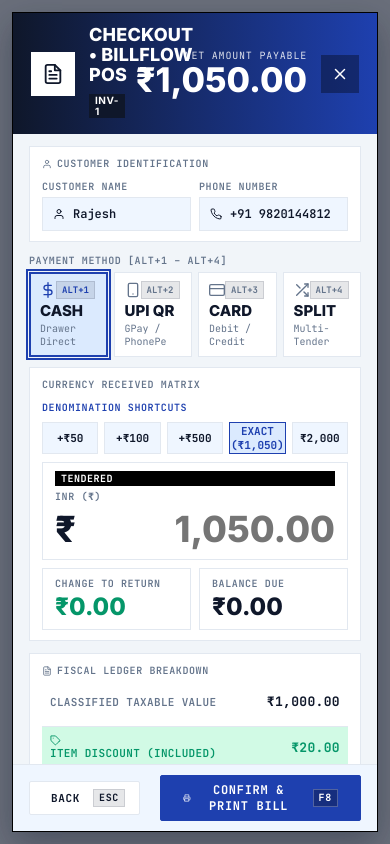
Scenario: Payment modal › quick tender buttons drive the tendered amount and change
Click the button "₹2,000" at [320, 438], box [292,422,348,454]
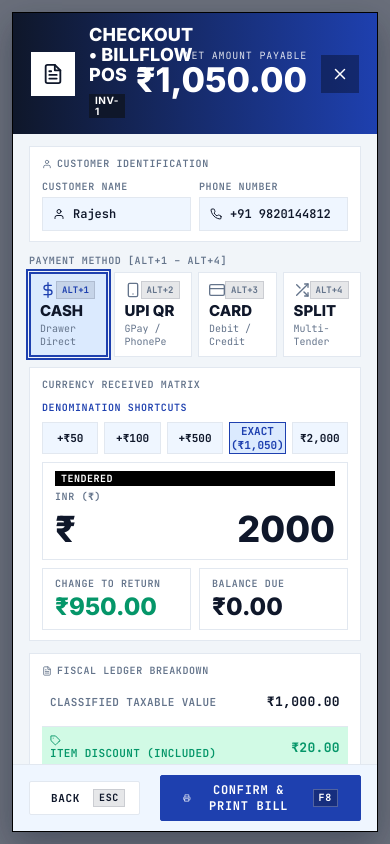
Result: the field named "Tendered amount" holds "2000" at [84,507,335,551]
Result: the text "₹950.00" is shown at [55,592,157,621]
Click the button "EXACT (₹1,050)" at [257, 438], box [229,422,286,454]
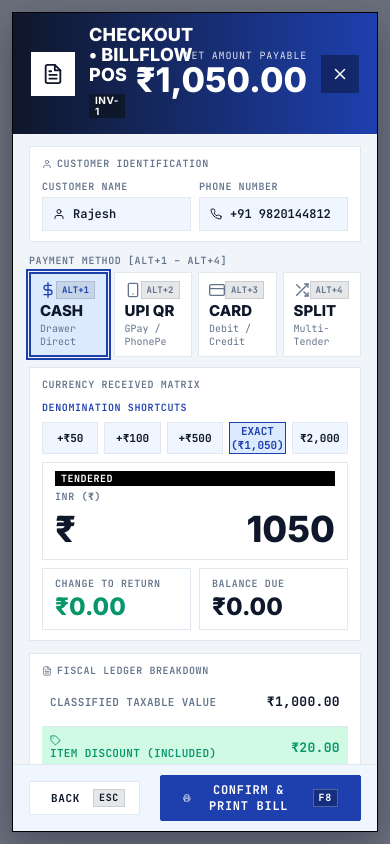
Result: the field named "Tendered amount" holds "1050" at [84,507,335,551]
